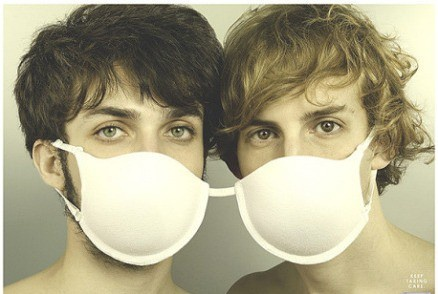face_mask: (69, 68, 209, 257), (237, 69, 377, 248)
